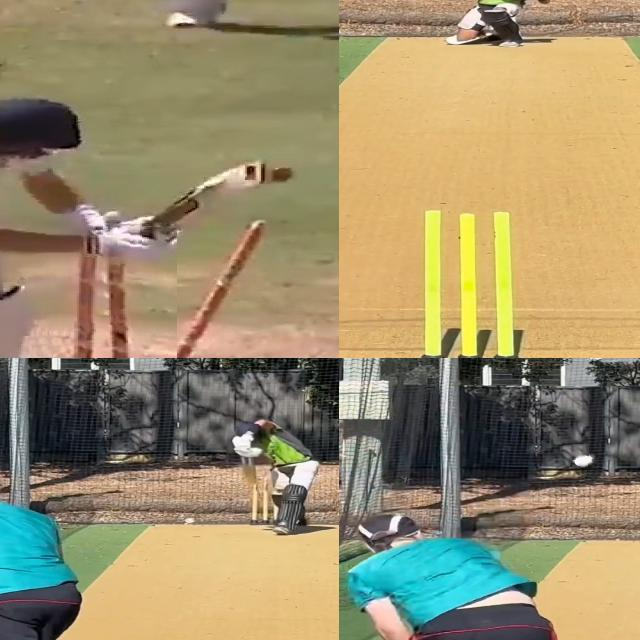Cricket ball: (271, 164, 297, 184), (572, 454, 596, 468), (184, 517, 197, 525)
Stumps: (73, 219, 177, 358), (248, 477, 281, 526)
